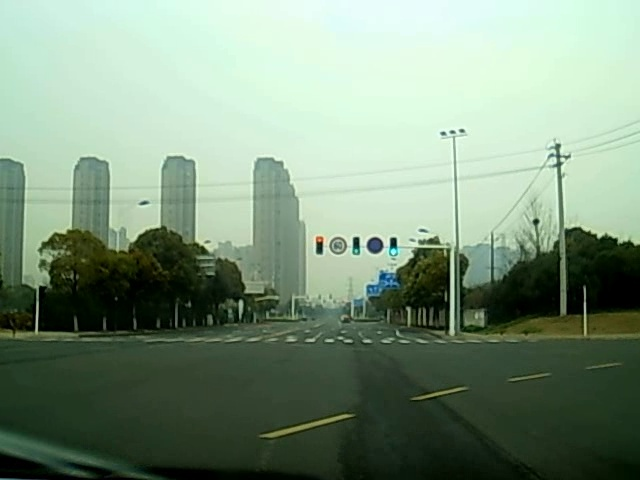Traffic_Light_go: (351, 237, 362, 258), (388, 237, 397, 259)
Traffic_Light_stop: (314, 236, 323, 258)
